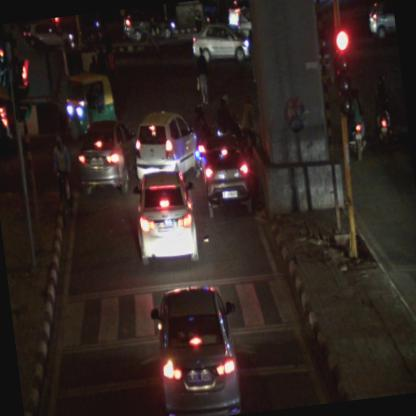car: (147, 280, 249, 415), (129, 170, 202, 267), (128, 105, 204, 187), (72, 114, 141, 198), (198, 134, 252, 218), (190, 20, 252, 70), (365, 0, 397, 41), (227, 0, 252, 39)
motorcycle: (344, 86, 372, 164)
